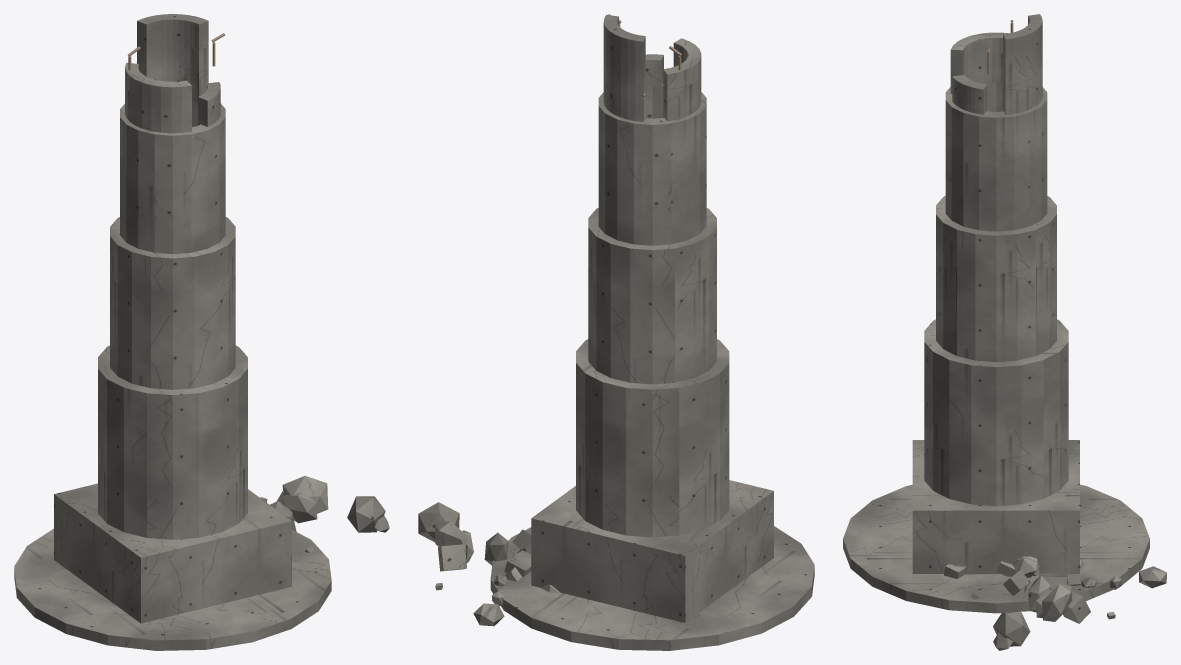
File: Smokestack.fbx
The picture shows the model from 3 angles, left to right: view 1: azimuth 30°, elevation 25°; view 2: azimuth 150°, elevation 25°; view 3: azimuth 270°, elevation 25°; orthographic projection. The views are drawn at different scales.
Parts seen in each view (by area): view 1: Smokestack; view 2: Smokestack; view 3: Smokestack.
Boxes of the visible parts, x1,y1,x2,y2 form: Smokestack: (14,14,389,650); Smokestack: (418,14,814,650); Smokestack: (843,14,1166,650).
Size of the model in its own units: 5.72 by 8.44 by 4.64.
Materials: 2 (1 with a texture image).
